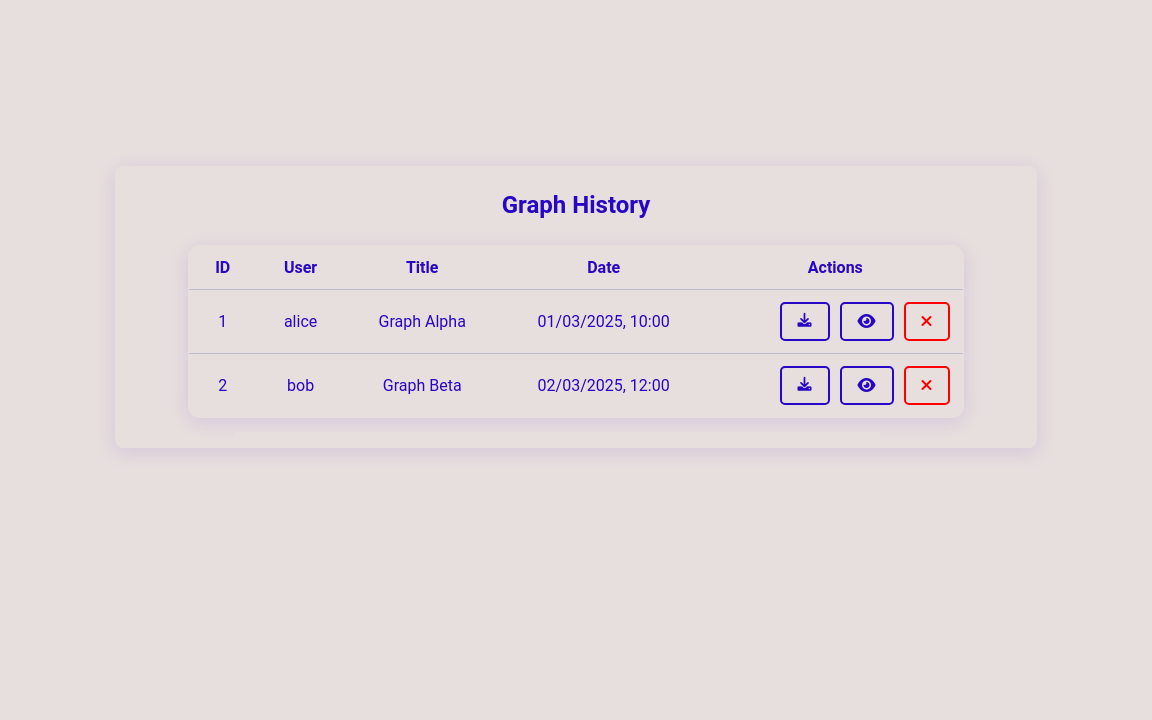
Test: History Component — modal affichage graphe (B2) › fermeture de la modal au clic sur le bouton ✕
The width and height of the screenshot is (1152, 720).
Check: the text "Graph Alpha" is shown, box [345,290,499,354]
Click the button named "View graph" in the row of "alice" at (866, 322), box [840,302,894,341]
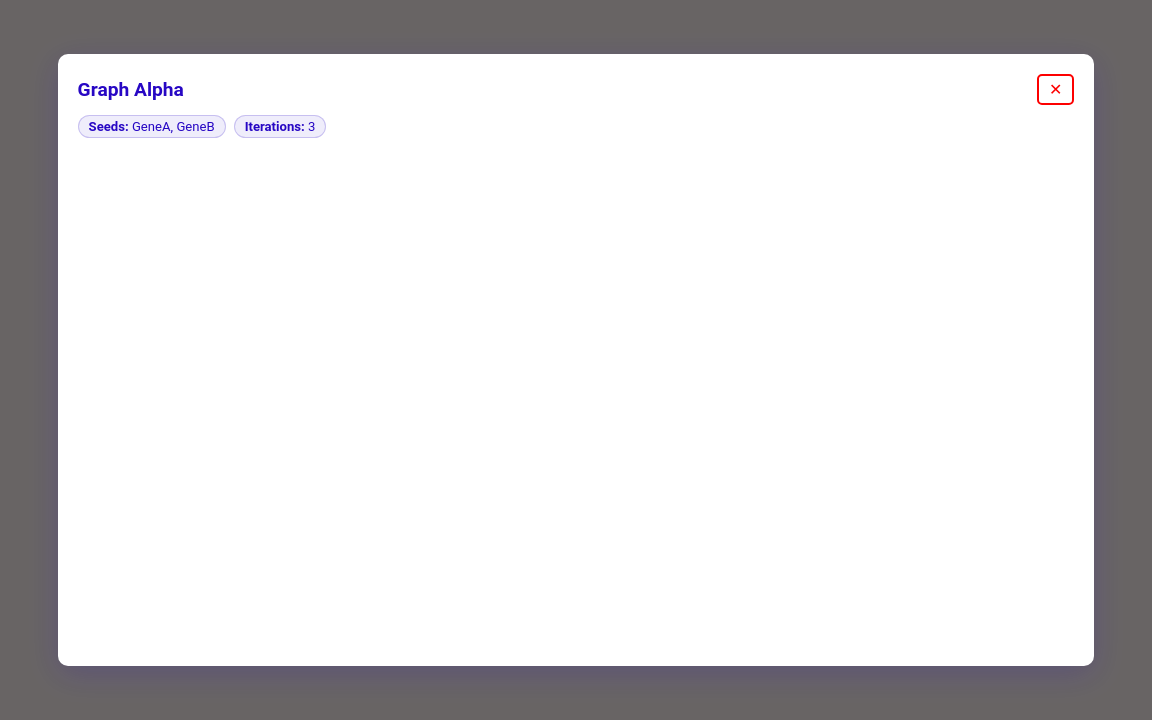
Check: the element with test id "graph-modal" is shown
Click the button named "Fermer" at (1056, 90), box [1037,74,1074,105]
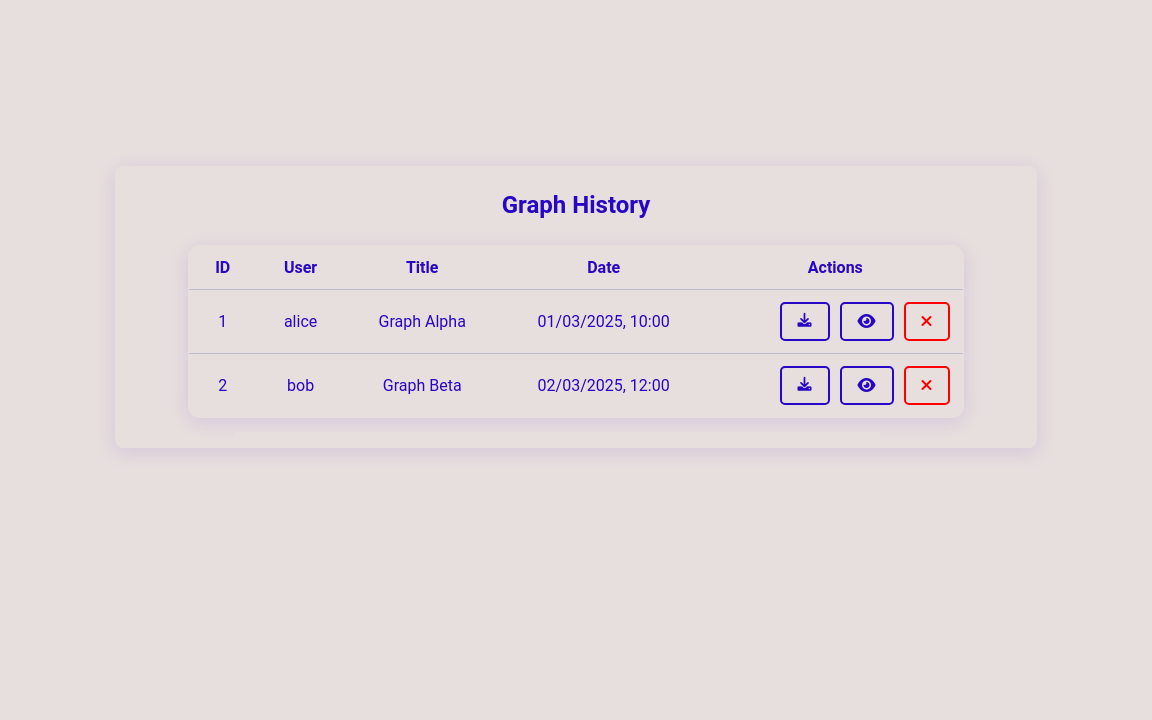
Check: the element with test id "graph-modal" is gone
